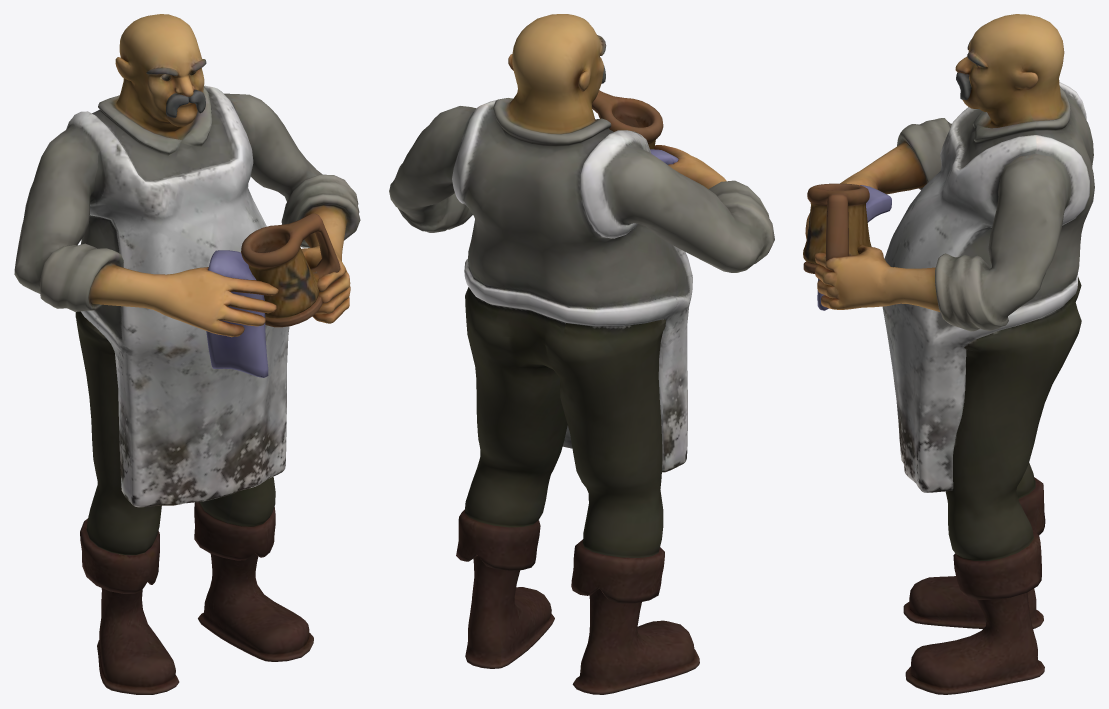
File: MZ4250 - BarKeep.glb
The picture shows the model from 3 angles, left to right: view 1: azimuth 30°, elevation 25°; view 2: azimuth 150°, elevation 25°; view 3: azimuth 270°, elevation 25°; orthographic projection. The views are drawn at different scales.
Visible parts, largest first — view 1: Body.002; view 2: Body.002; view 3: Body.002.
Part boxes in pixels (x1,y1,x2,y2): Body.002: [14, 14, 360, 694]; Body.002: [389, 14, 774, 694]; Body.002: [803, 14, 1094, 694].
Bounding box in the file's own units: 0.5226 × 0.9154 × 0.3891.
1 material, 1 textured.
